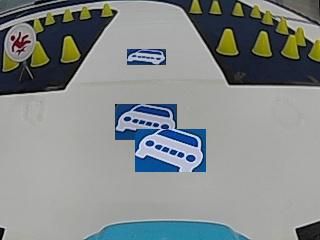cone: (216, 27, 239, 56), (60, 35, 80, 63), (252, 30, 272, 57), (30, 42, 49, 67), (281, 35, 299, 59), (1, 52, 17, 71), (308, 38, 319, 62), (275, 16, 288, 34), (209, 0, 222, 15), (189, 0, 202, 15), (79, 4, 91, 20), (295, 26, 305, 45), (232, 1, 243, 17), (32, 17, 43, 33), (261, 8, 272, 24), (101, 2, 112, 17), (62, 8, 73, 22), (44, 11, 55, 25), (250, 3, 260, 18)
tumble: (7, 26, 34, 57)
